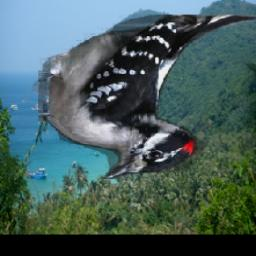Woodpecker: (38, 16, 256, 180)
